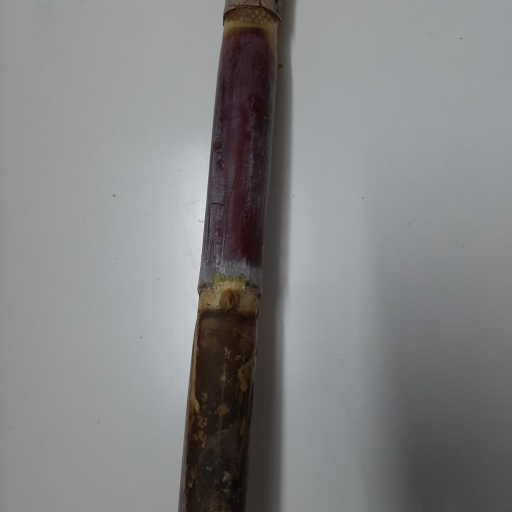Bud: (219, 289, 240, 313)
